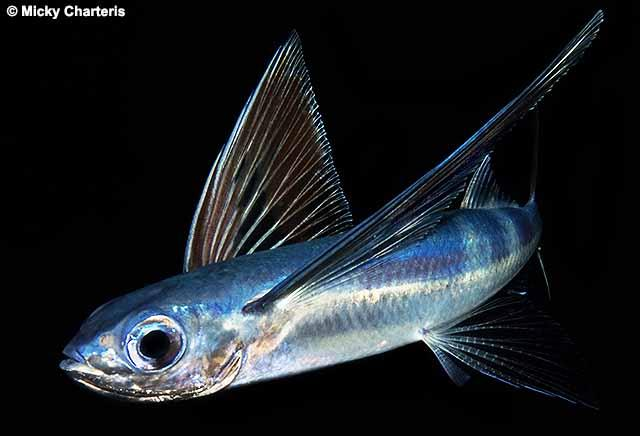Mulut: (37, 324, 117, 400)
Sirip Dada: (241, 3, 611, 333), (169, 5, 363, 277)
Sirip Ekor: (513, 96, 571, 308)
Sirip Perut: (414, 284, 620, 420)
Sirip Punggung: (454, 144, 528, 222)
